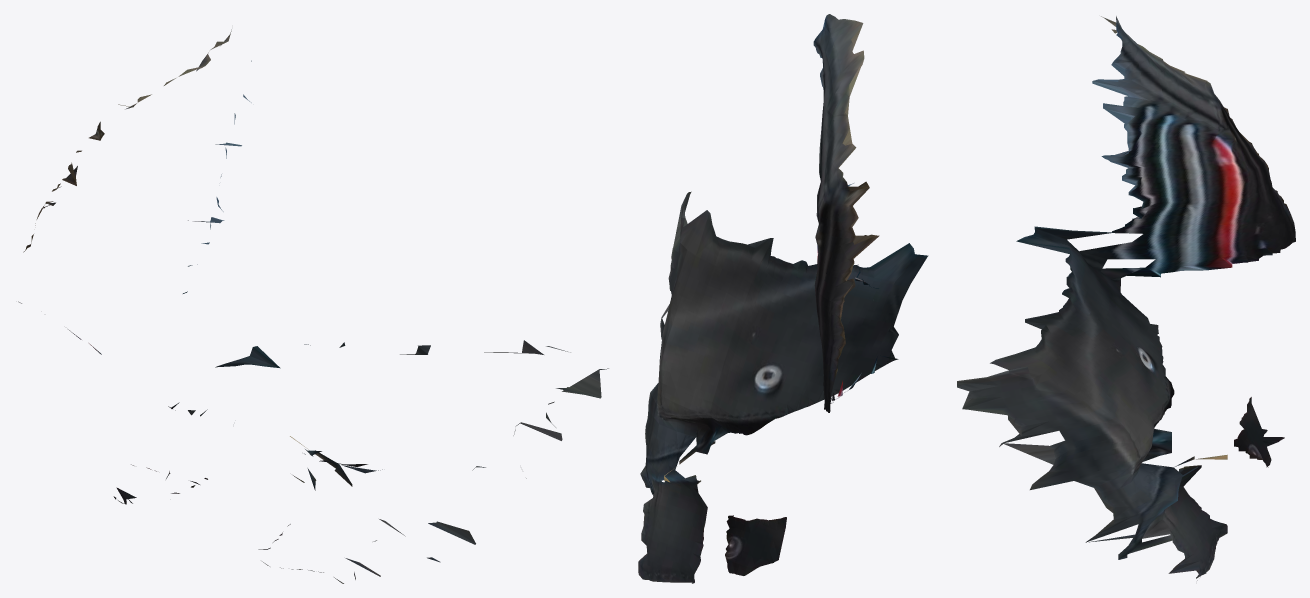
File: observed-surface.glb
3 renders of one model, left to right at view 1: azimuth 30°, elevation 25°; view 2: azimuth 150°, elevation 25°; view 3: azimuth 270°, elevation 25°, orthographic. The views are drawn at different scales.
Parts seen in each view (by area): view 1: geometry_0; view 2: geometry_0; view 3: geometry_0.
Boxes of the visible parts, bbox=[...] form: geometry_0: bbox=[18, 29, 608, 583]; geometry_0: bbox=[638, 14, 928, 583]; geometry_0: bbox=[957, 16, 1295, 580].
Size of the model in its own units: 0.4144 by 0.6689 by 0.4056.
Materials: 1 (1 with a texture image).
